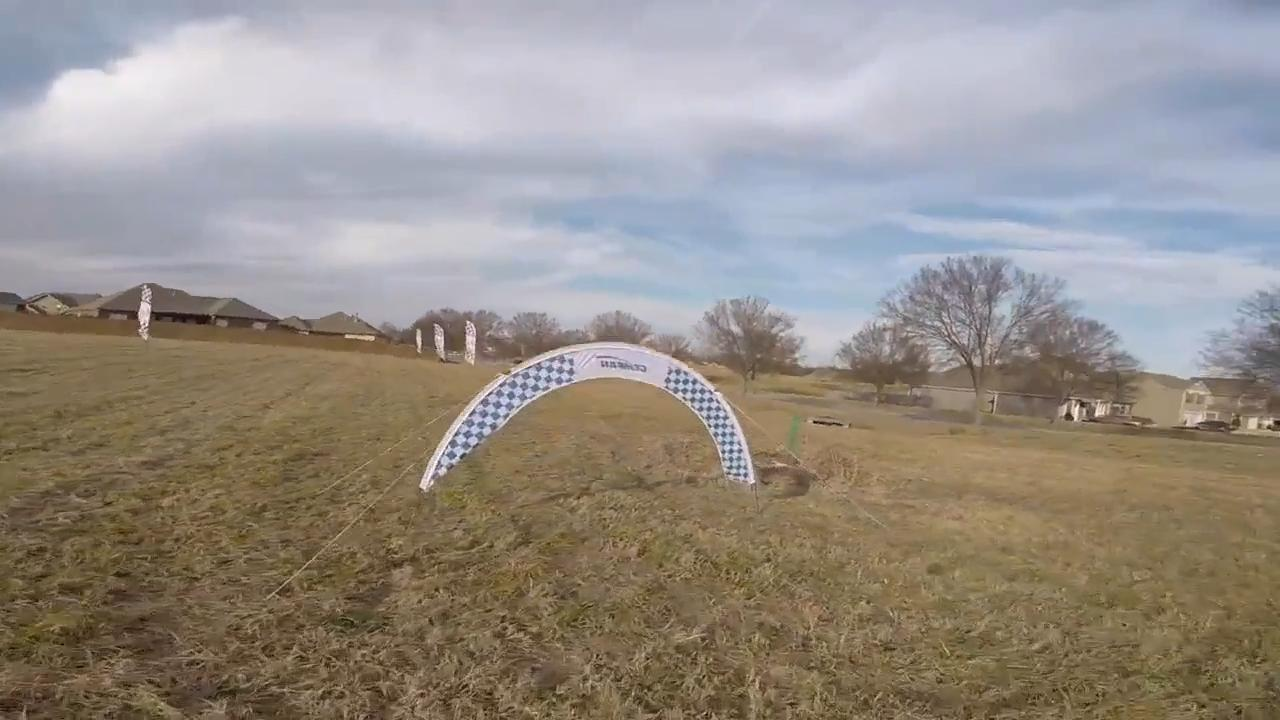gate: (415, 337, 757, 492)
